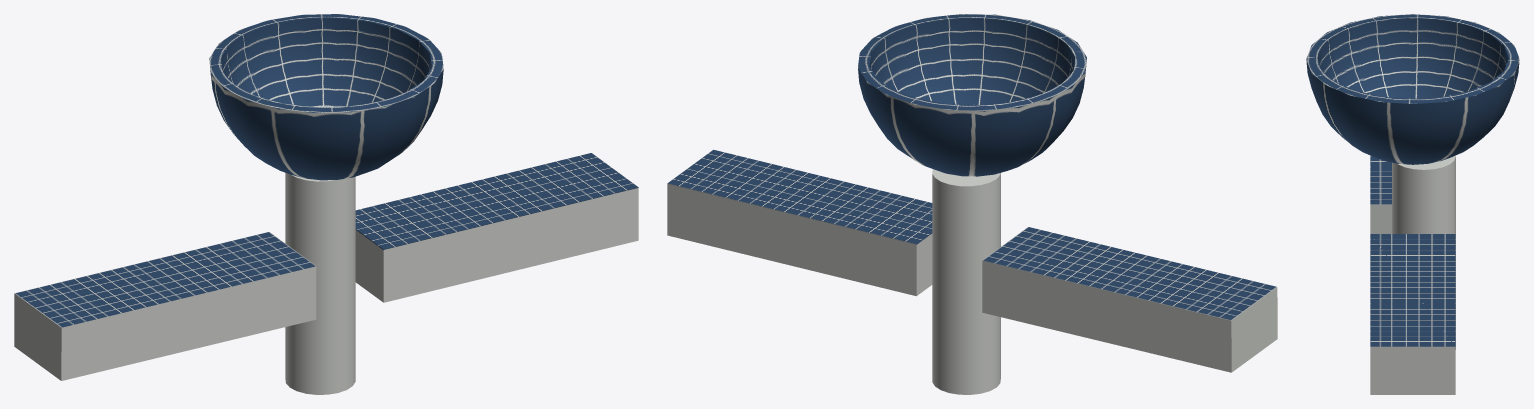
The model's file is satellite.gltf.
3 renders of one model, left to right at view 1: azimuth 30°, elevation 25°; view 2: azimuth 150°, elevation 25°; view 3: azimuth 270°, elevation 25°, orthographic. The views are drawn at different scales.
Visible parts, largest first — view 1: plate, panel_L, panel_R, cylinder; view 2: plate, panel_L, panel_R, cylinder; view 3: plate, panel_R, cylinder, panel_L.
Part boxes in pixels (left/top/right/bottom): plate: left=209, top=14, right=443, bottom=180; panel_L: left=14, top=232, right=316, bottom=380; panel_R: left=355, top=153, right=638, bottom=302; cylinder: left=285, top=173, right=355, bottom=394; plate: left=858, top=14, right=1086, bottom=176; panel_L: left=982, top=227, right=1277, bottom=372; panel_R: left=667, top=149, right=932, bottom=296; cylinder: left=932, top=169, right=1000, bottom=394; plate: left=1306, top=14, right=1519, bottom=164; panel_R: left=1370, top=234, right=1455, bottom=394; cylinder: left=1392, top=155, right=1455, bottom=349; panel_L: left=1370, top=155, right=1391, bottom=233.
Size of the model in its own units: 2.83 by 1.51 by 1.
4 materials, 4 textured.
